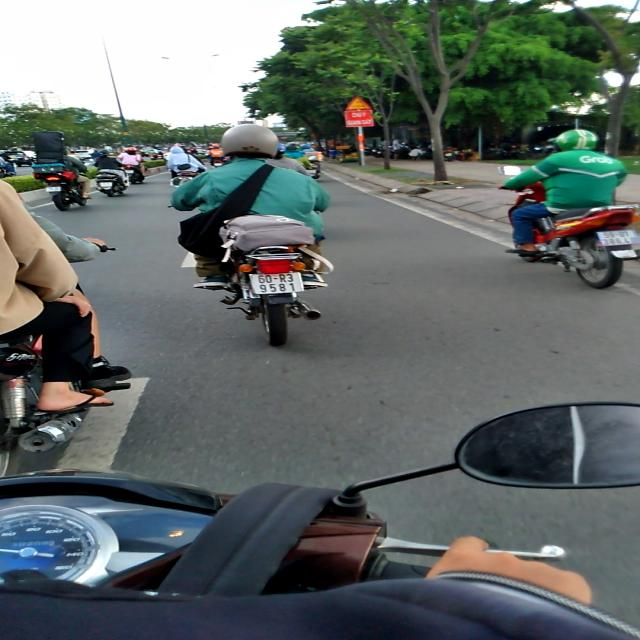W.245a: (345, 96, 371, 110)
